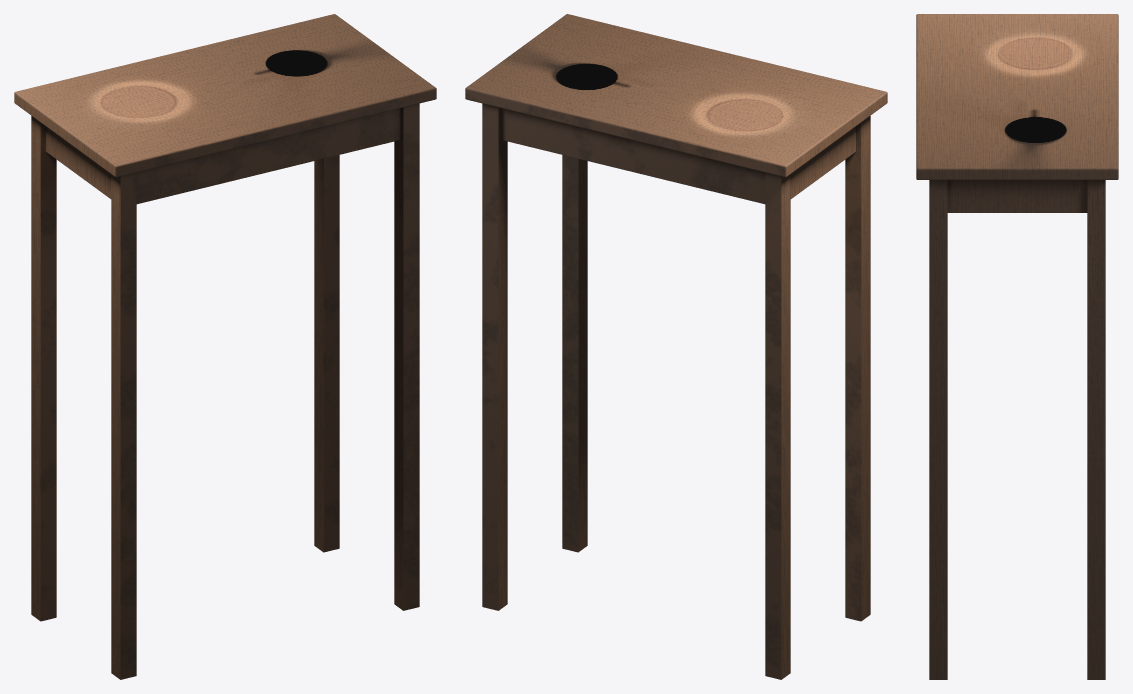
File: 817_metal.glb
3 renders of one model, left to right at view 1: azimuth 30°, elevation 25°; view 2: azimuth 150°, elevation 25°; view 3: azimuth 270°, elevation 25°, orthographic.
Parts seen in each view (by area): view 1: Table; view 2: Table; view 3: Table.
Part boxes in pixels (x1,y1,x2,y2): Table: (14,14,436,679); Table: (465,14,887,679); Table: (916,14,1118,679).
Size of what is drawn, in the model's own units: 2 by 3.1 by 1.1.
1 material, 1 textured.
